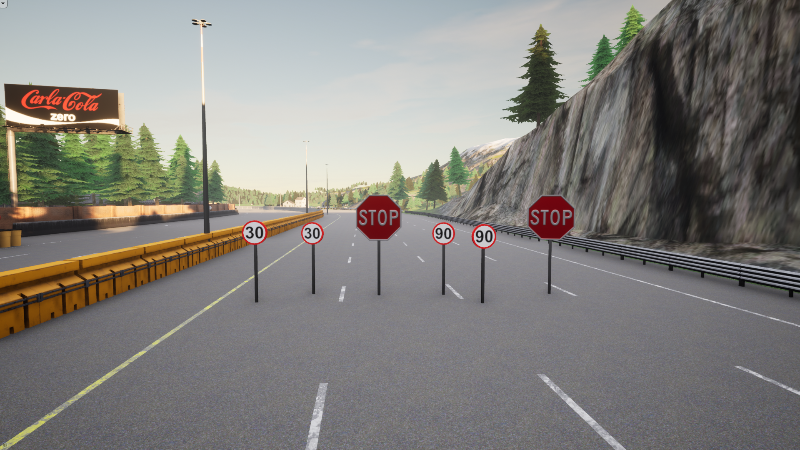fast: (471, 223, 496, 249), (432, 222, 455, 245)
slow: (242, 220, 267, 245), (300, 222, 324, 245)
stop: (527, 195, 575, 241), (355, 195, 402, 241)
